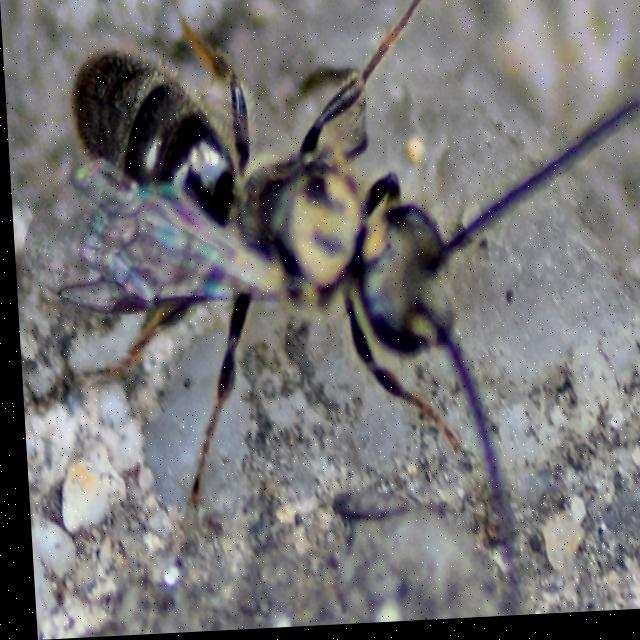Lasioglossum: (38, 0, 640, 638)
